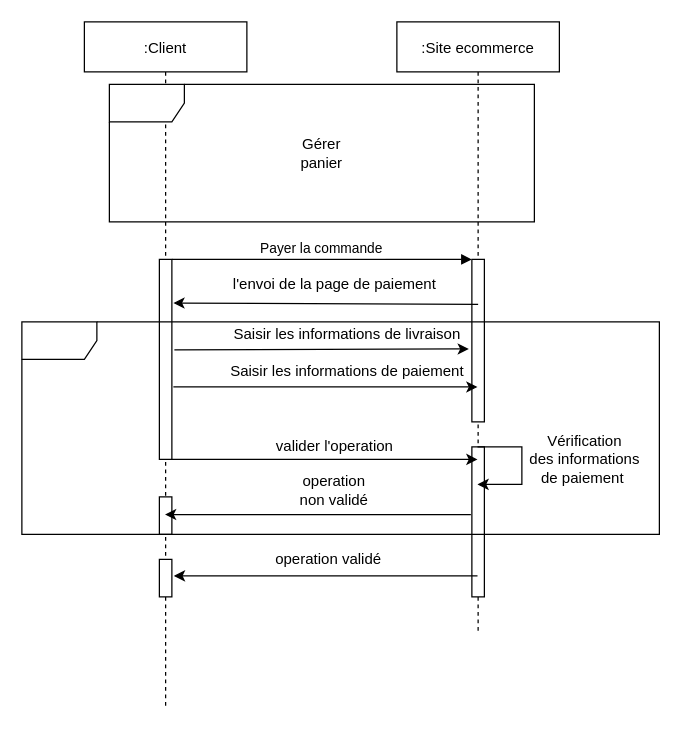
Image size: 681x731. Some labels were removed from this diagram. The box of each missing label's shape, as (x1, y1, x2, y2) in pixels:
loop(1,n): (21, 321, 659, 534)
Ref: (108, 83, 534, 222)
